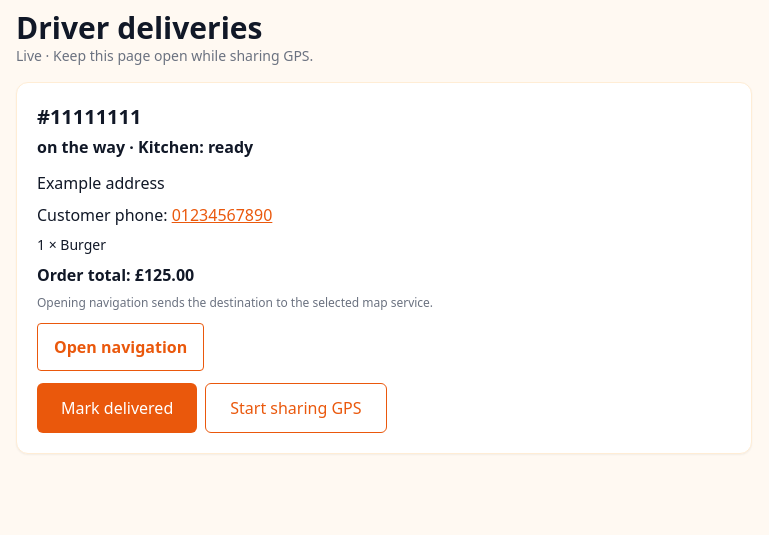
Test: driver GPS › shows permission denial and clears the watcher
Step 1. Click the button "Start sharing GPS" → [296, 408], box [205,383,387,433]
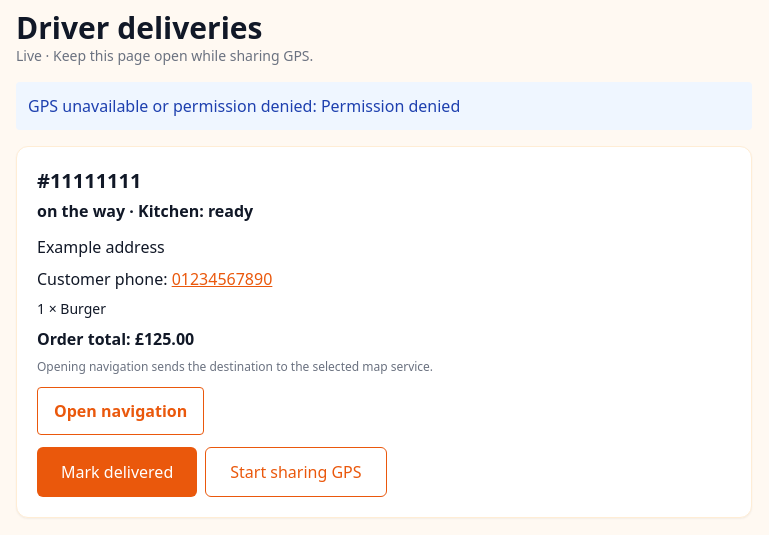
expect the message shows "permission denied": met, box [28,95,460,117]
